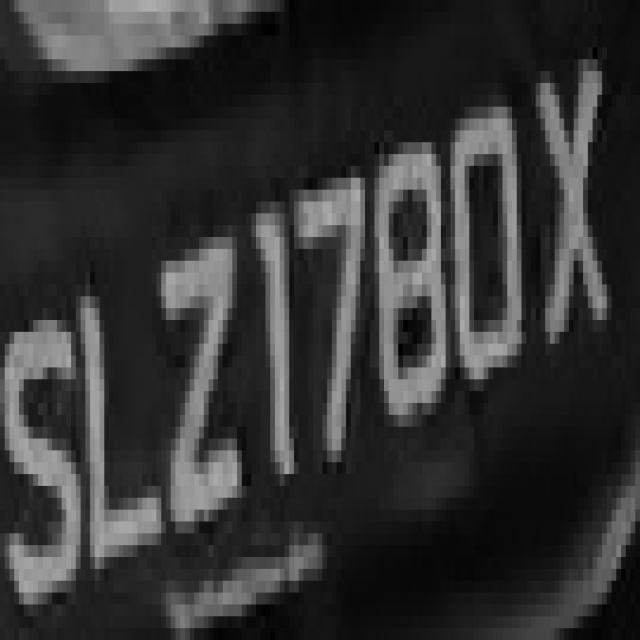0: (446, 59, 522, 403)
1: (237, 154, 303, 522)
7: (284, 166, 370, 498)
8: (365, 118, 450, 426)
L: (76, 225, 166, 593)
S: (5, 249, 76, 640)
X: (531, 23, 616, 356)
Z: (156, 201, 237, 581)
